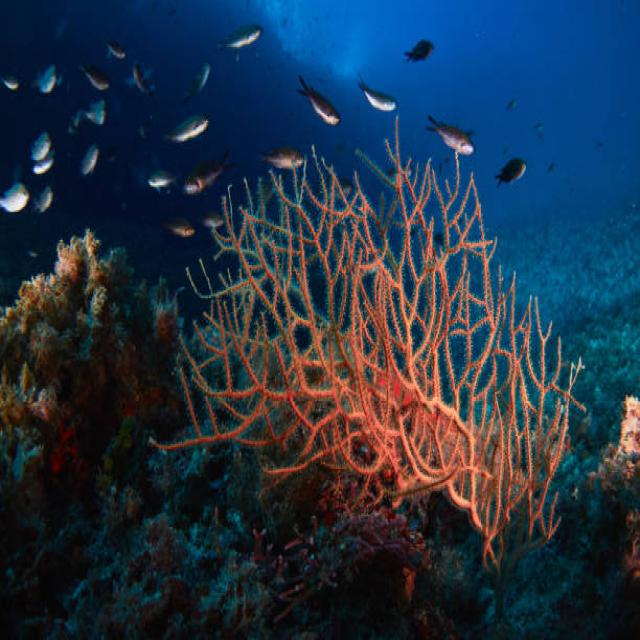Coral: (148, 115, 588, 573)
